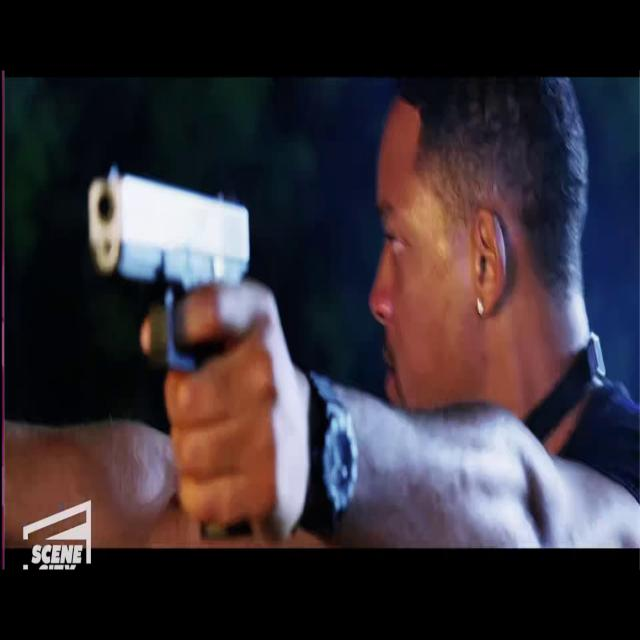weapons: (76, 150, 272, 414)
